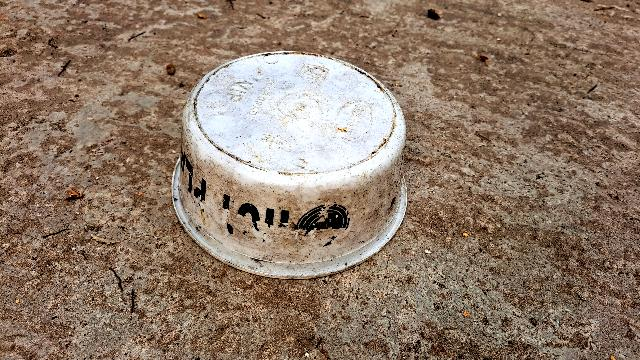hardplastic: (169, 48, 428, 276)
